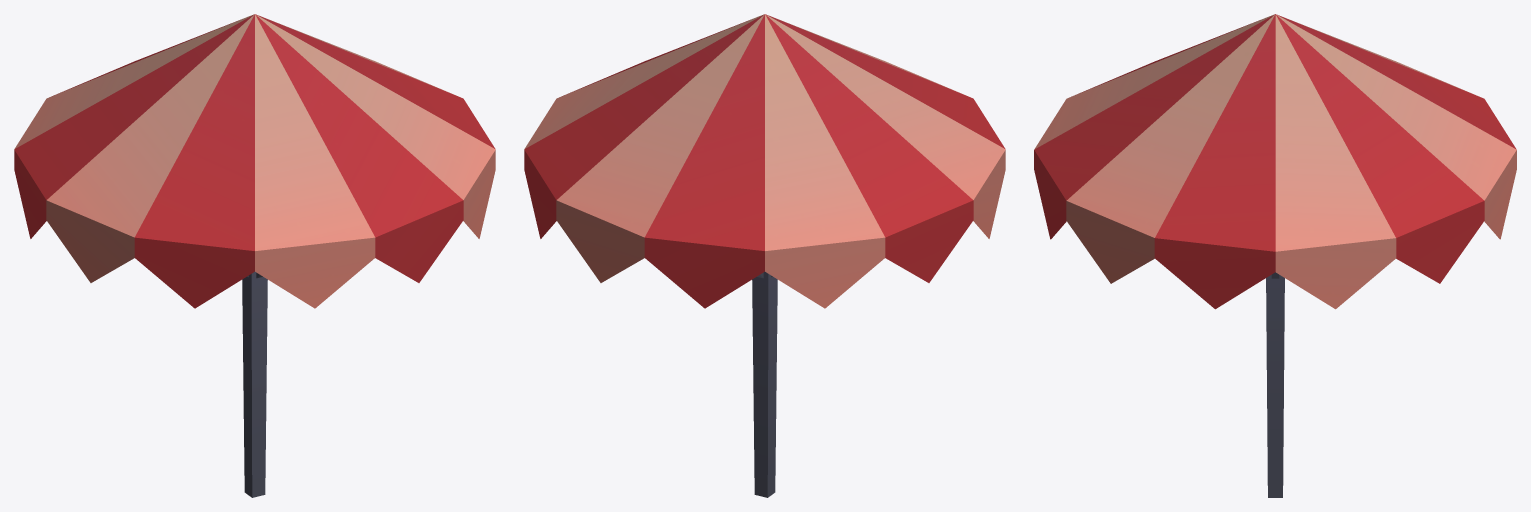
Rendered from SM_Umbrella_1.FBX.
3 renders of one model, left to right at view 1: azimuth 30°, elevation 25°; view 2: azimuth 150°, elevation 25°; view 3: azimuth 270°, elevation 25°, orthographic.
Parts seen in each view (by area): view 1: SM_Umbrella_1; view 2: SM_Umbrella_1; view 3: SM_Umbrella_1.
Part boxes in pixels (x1,y1,x2,y2): SM_Umbrella_1: (14,14,495,497); SM_Umbrella_1: (524,14,1005,497); SM_Umbrella_1: (1034,14,1516,497).
Size of what is drawn, in the model's own units: 336 by 336 by 369.
